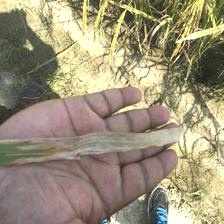Leaf_Blast: (51, 125, 191, 159)
